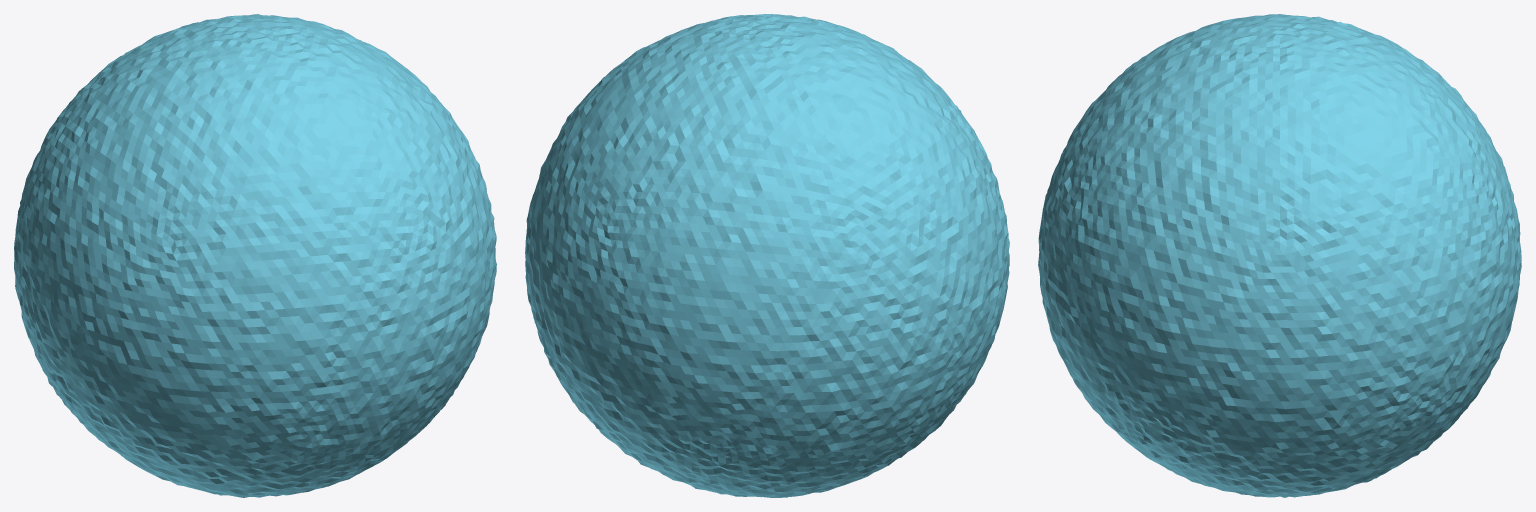
File: mars-BgZD_ZCU.glb
3 renders of one model, left to right at view 1: azimuth 30°, elevation 25°; view 2: azimuth 150°, elevation 25°; view 3: azimuth 270°, elevation 25°, orthographic.
Visible parts, largest first — view 1: realwater; view 2: realwater; view 3: realwater.
Part boxes in pixels (left/top/right/bottom): realwater: left=14, top=14, right=496, bottom=497; realwater: left=525, top=14, right=1009, bottom=497; realwater: left=1038, top=14, right=1521, bottom=497.
Size of the model in its own units: 37.11 by 37.14 by 37.11.
